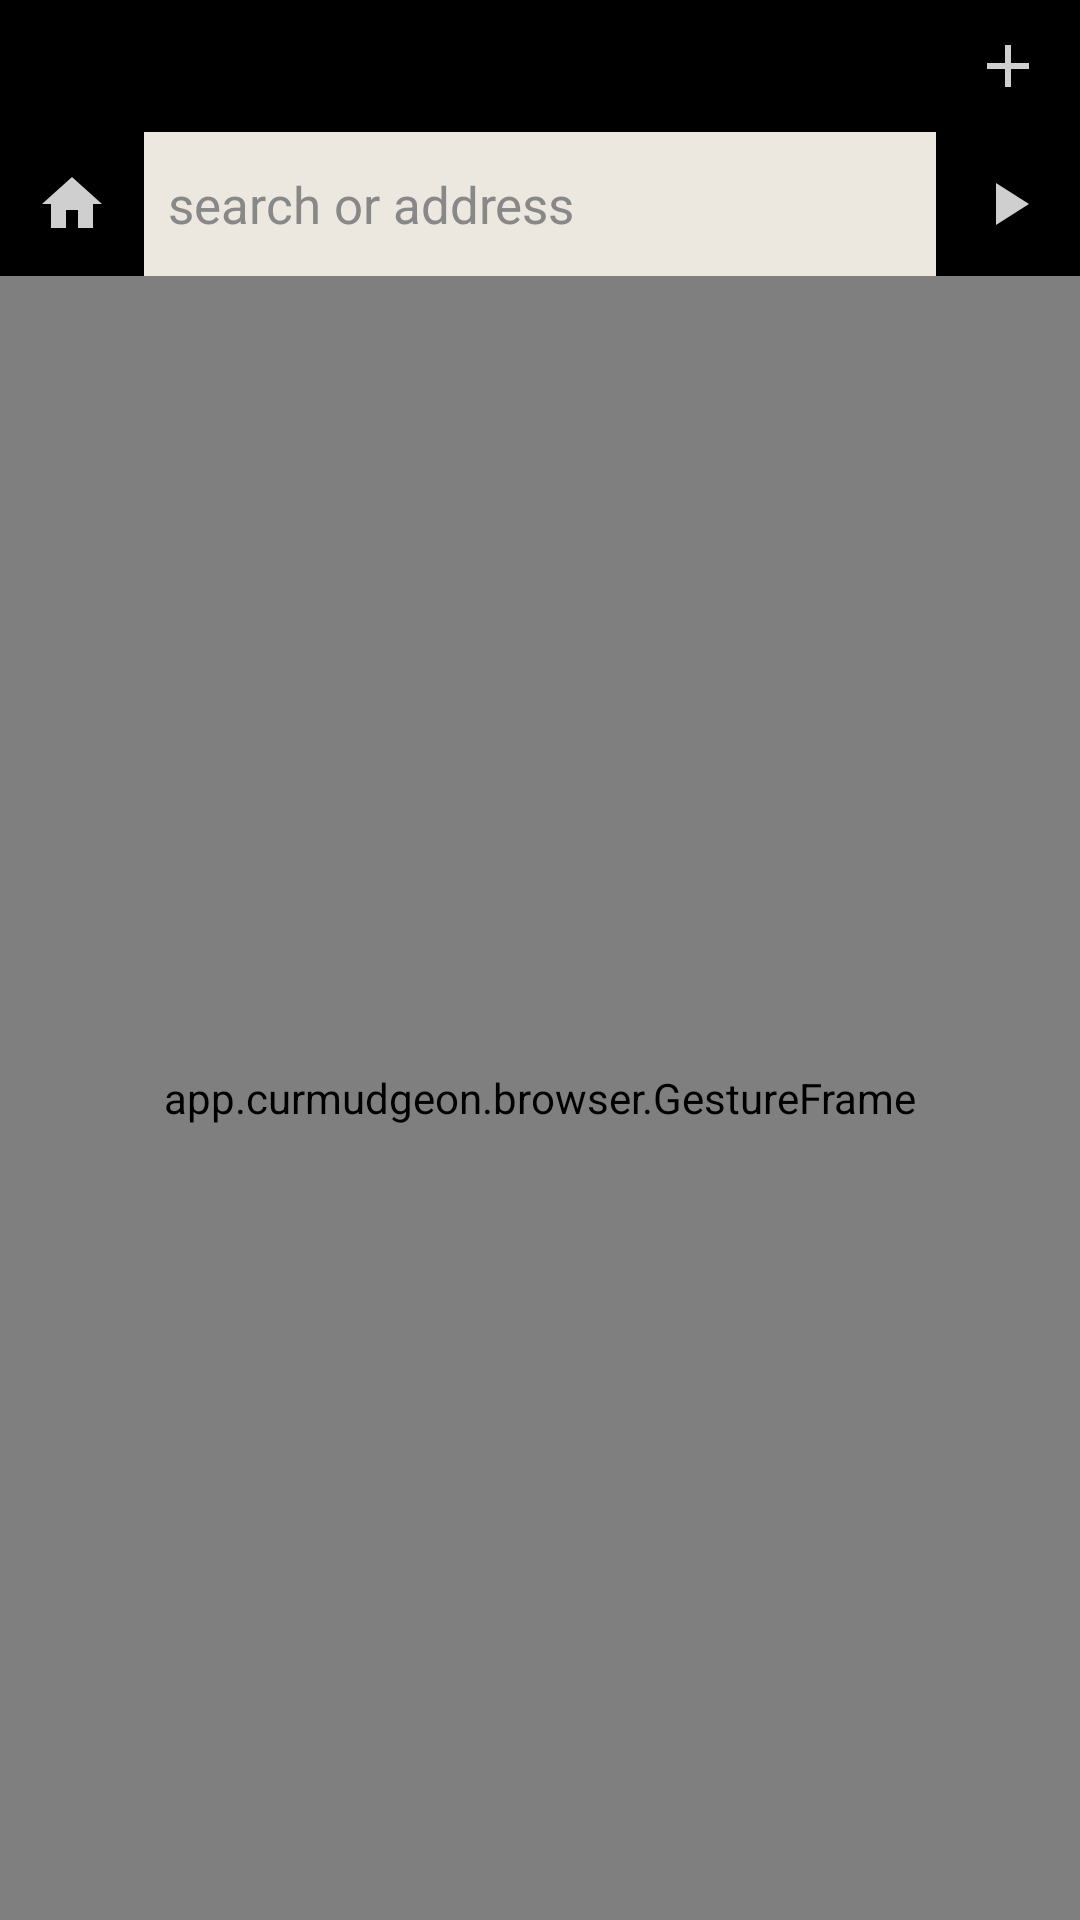

Screen size 1080px×1920px. Icon name, then its center in pixels as point (x, y):
add: point (1008, 66)
Home page: point (72, 202)
